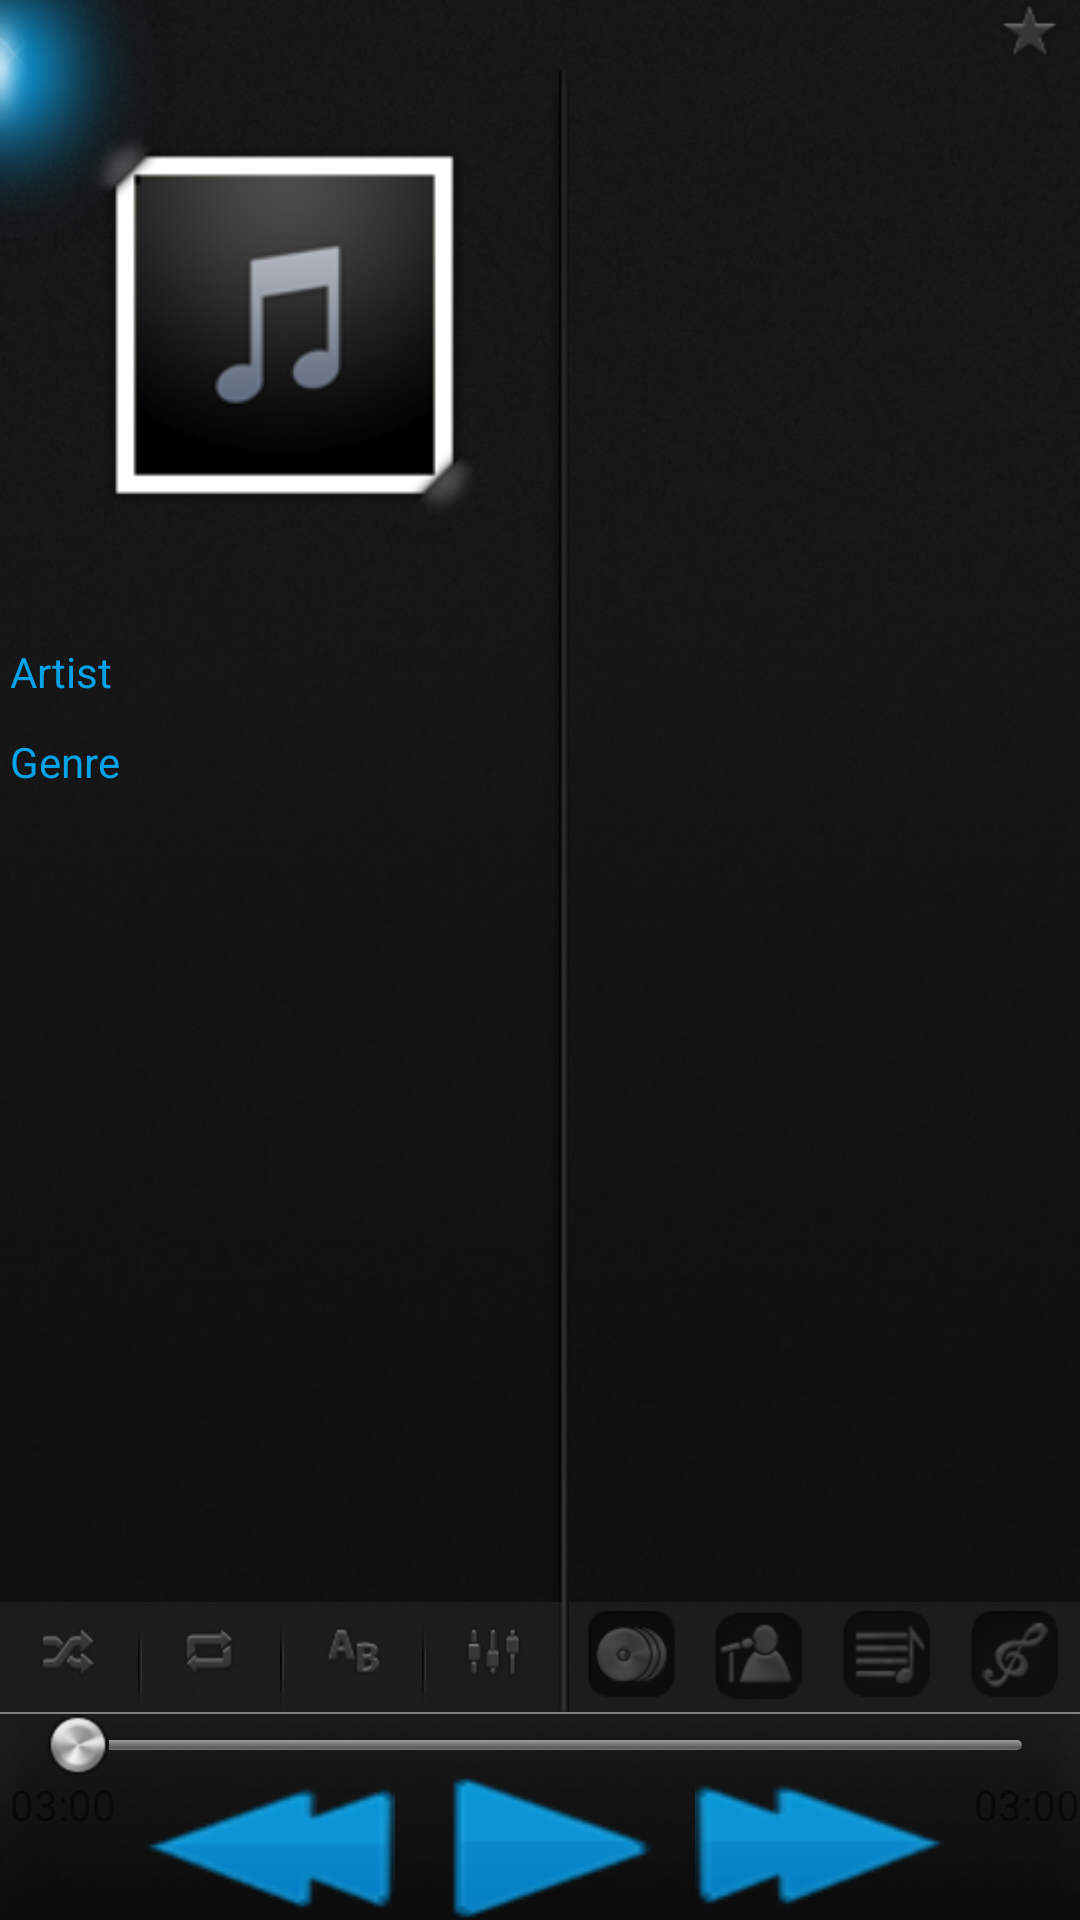

Where to tap for icons on this 1080px×1920px app screen, as [x,y]:
album: [632,1654]
artist: [759,1656]
back: [272,1848]
effect: [493,1651]
loop: [209,1649]
next: [817,1845]
now play: [1015,1654]
play: [551,1847]
play list: [887,1654]
random: [68,1650]
star: [1030,30]
